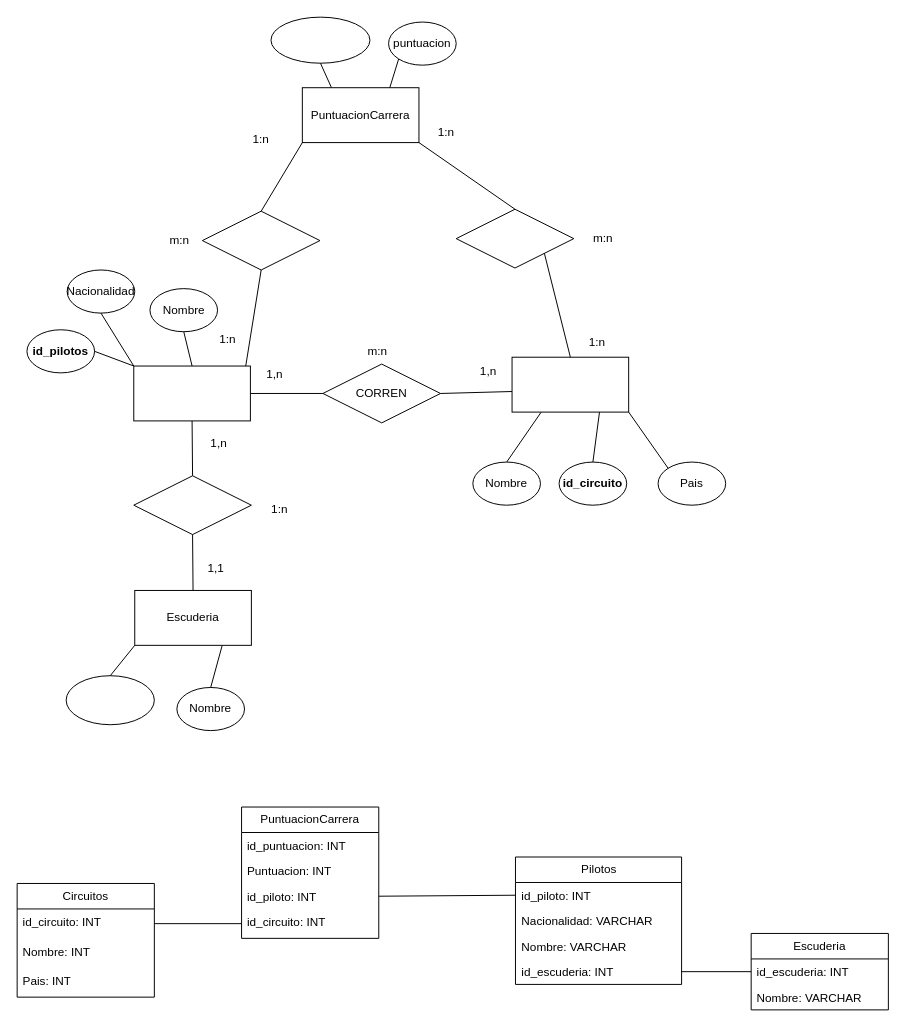
Image size: 906x1030. Some labels were removed from this diagram. The centre of each missing label's shape, as x and y in pixels:
"Cirtcuito" belongs at (x=570, y=384).
"CONTIENE" belongs at (x=260, y=240).
"id_escuderia" belongs at (x=109, y=700).
"id_puntuacion" belongs at (x=320, y=39).
"PERTENECE" belongs at (x=192, y=505).
"Piloto" belongs at (x=191, y=393).
"TIENE" belongs at (x=514, y=238).
